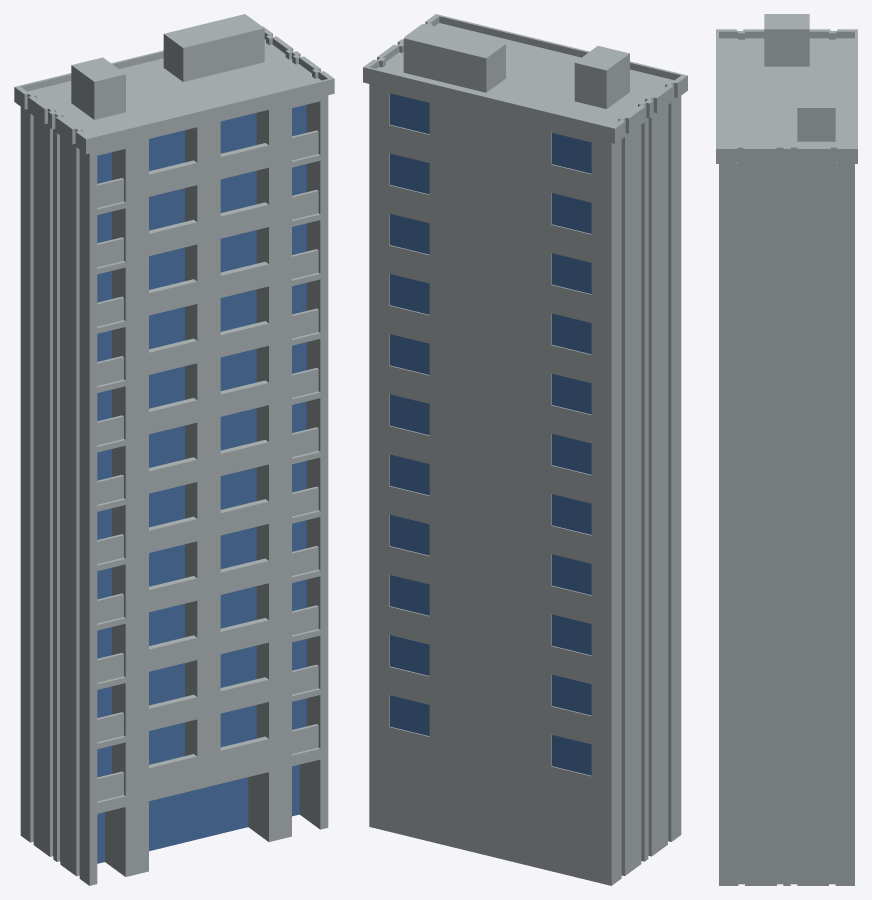
The model's file is bill_005.fbx.
3 views of the same model, side by side, from view 1: azimuth 30°, elevation 25°; view 2: azimuth 150°, elevation 25°; view 3: azimuth 270°, elevation 25° (orthographic). The views are drawn at different scales.
Visible parts, largest first — view 1: building.010; view 2: building.010; view 3: building.010.
Boxes of the visible parts, x1,y1,x2,y2 form: building.010: (14,14,334,885); building.010: (363,14,687,885); building.010: (716,14,857,885).
Size of the model in its own units: 2000 by 6000 by 1000.
